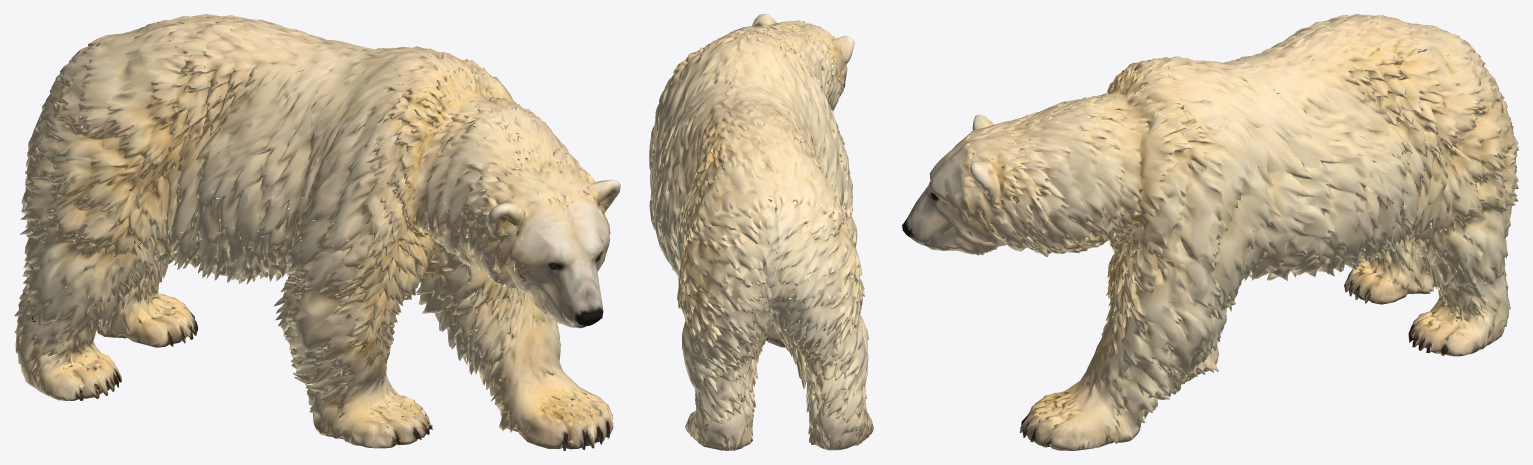
File: polar-bear.glb
The picture shows the model from 3 angles, left to right: view 1: azimuth 30°, elevation 25°; view 2: azimuth 150°, elevation 25°; view 3: azimuth 270°, elevation 25°; orthographic projection. The views are drawn at different scales.
Visible parts, largest first — view 1: polar-bear; view 2: polar-bear; view 3: polar-bear.
Part boxes in pixels (left/top/right/bottom): polar-bear: left=14, top=14, right=620, bottom=450; polar-bear: left=649, top=14, right=873, bottom=450; polar-bear: left=902, top=14, right=1518, bottom=450.
Size of the model in its own units: 1.63 by 1.37 by 2.33.
Materials: 1 (1 with a texture image).
